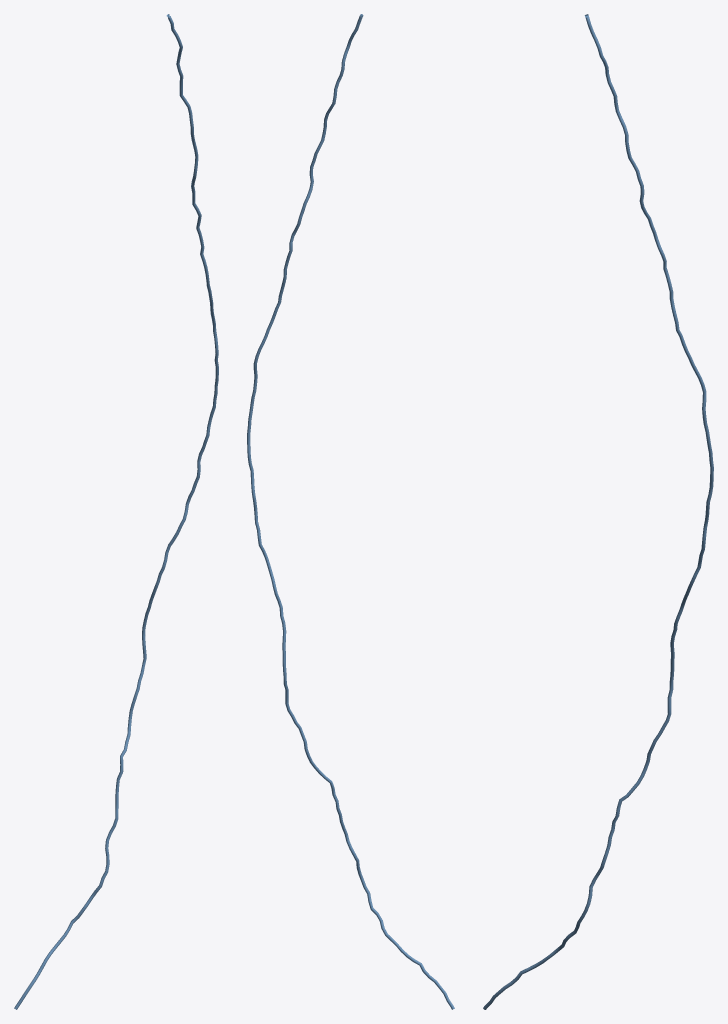
File: sweep84.fbx
The picture shows the model from 3 angles, left to right: view 1: azimuth 30°, elevation 25°; view 2: azimuth 150°, elevation 25°; view 3: azimuth 330°, elevation 25°; orthographic projection. The views are drawn at different scales.
Parts seen in each view (by area): view 1: sweep84; view 2: sweep84; view 3: sweep84.
Boxes of the visible parts, <box> form: sweep84: <box>14,14,218,1009</box>; sweep84: <box>247,14,454,1009</box>; sweep84: <box>483,14,713,1009</box>.
Bounding box in the file's own units: 1.41 × 6.34 × 0.6333.
